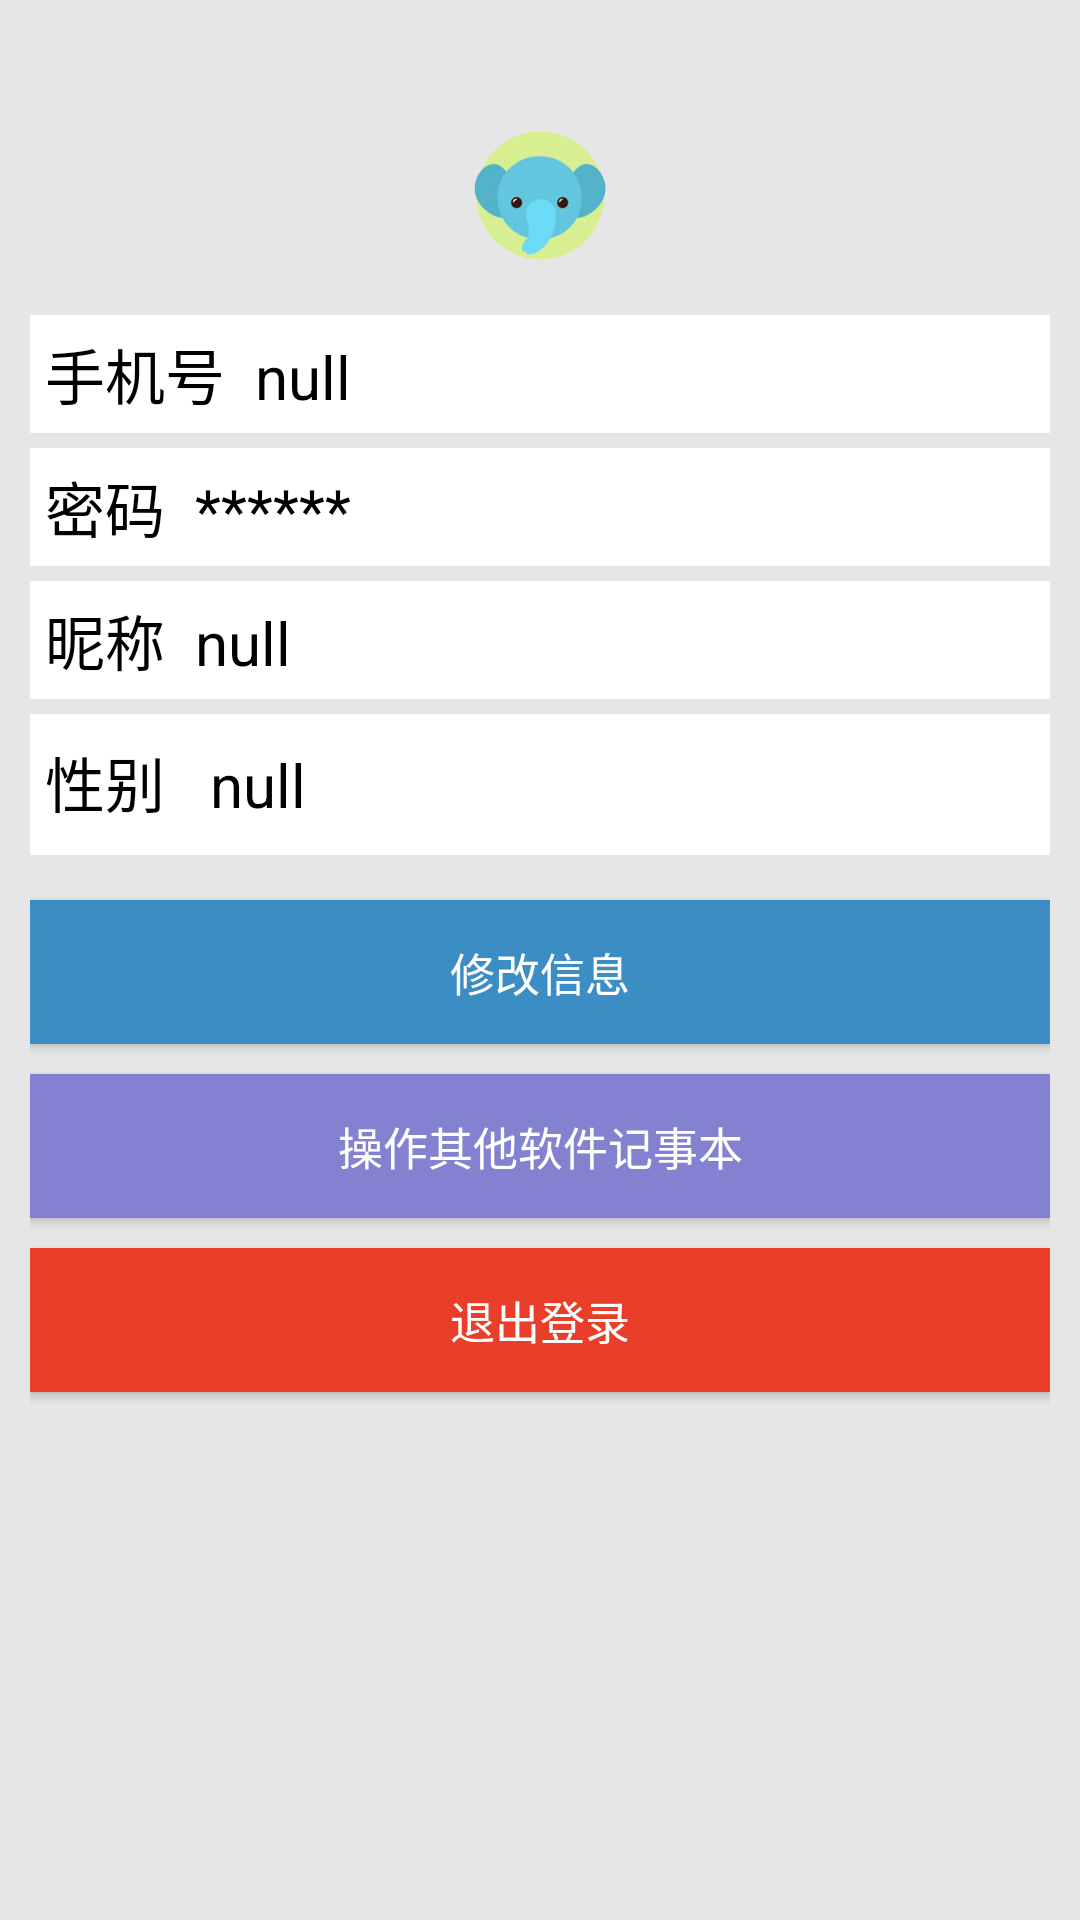

Named icons in this screenshot (1080 x 1920) and their centers, (x,y):
head: (540,195)
